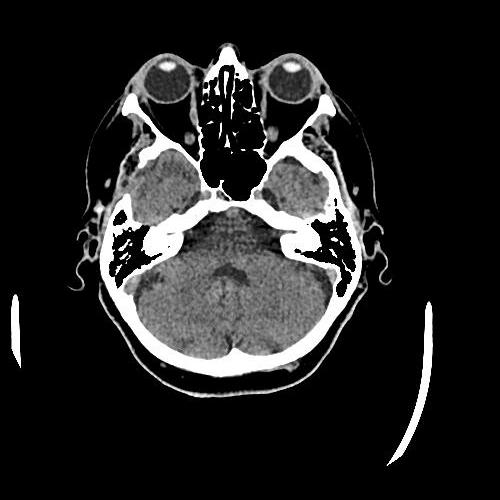Normal_Brain: (65, 45, 394, 392)
